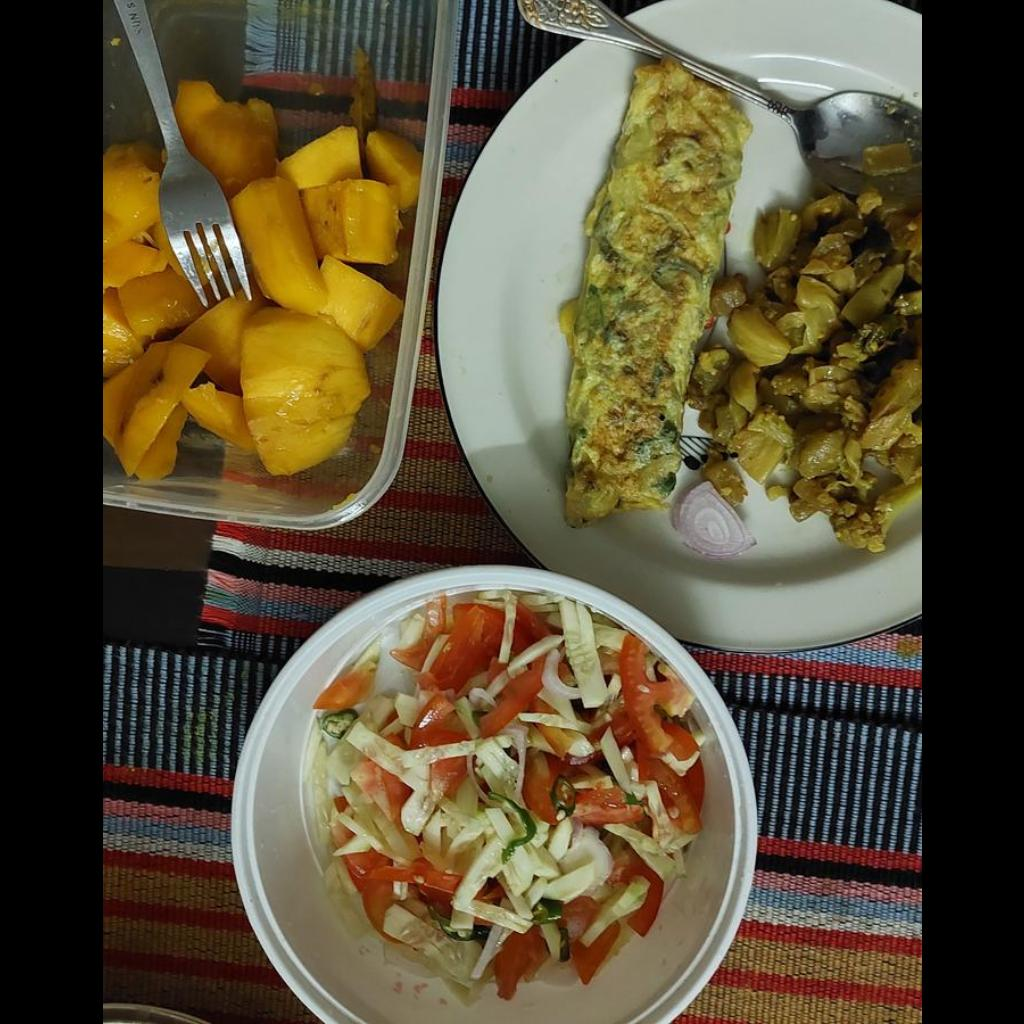egg-poached: (557, 59, 749, 518)
mango: (102, 83, 419, 484)
salad: (325, 594, 705, 998)
vaji: (695, 199, 920, 556)
